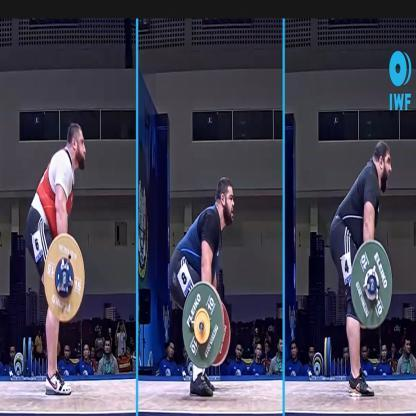barbell: (180, 282, 232, 366), (44, 233, 84, 322), (352, 241, 393, 327)
